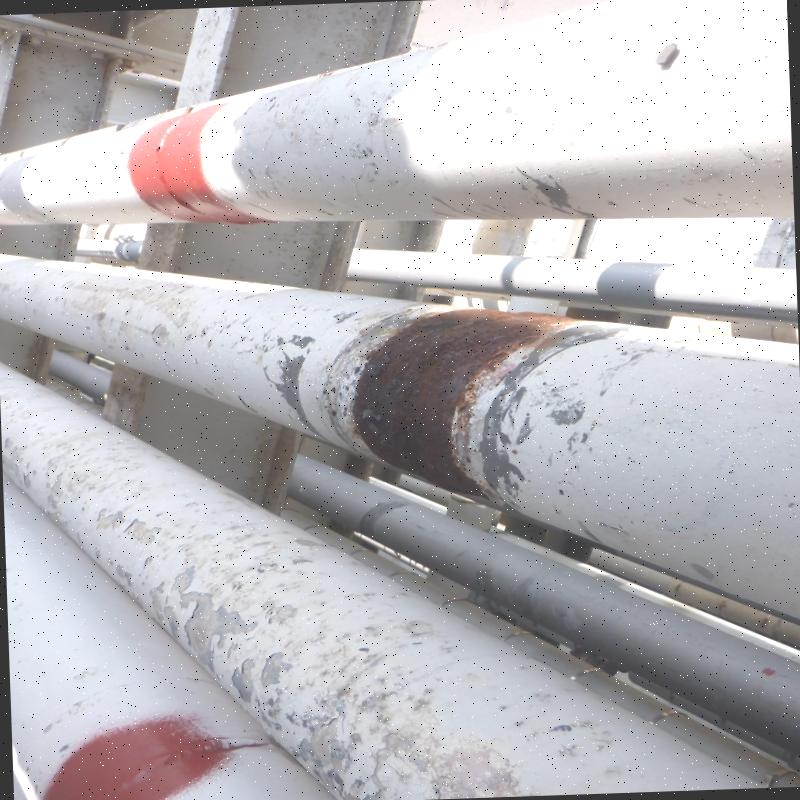corrosion: (377, 328, 452, 465)
